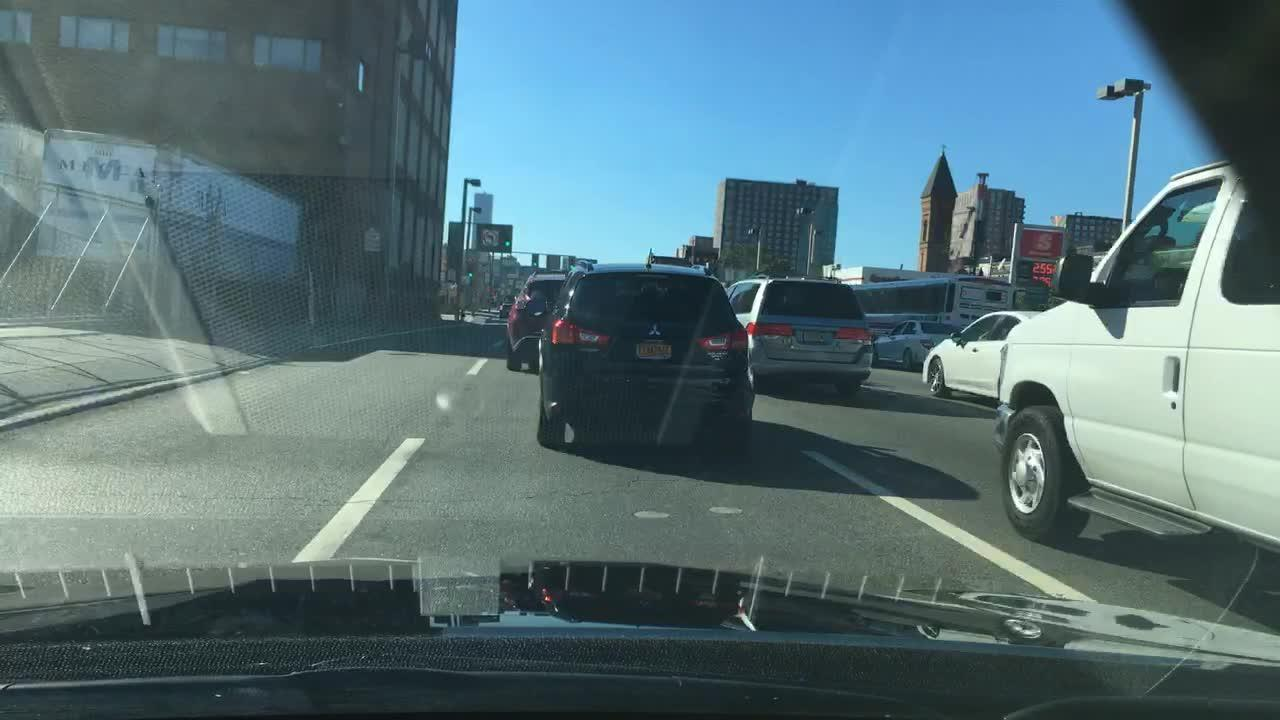Mitsubishi: (638, 317, 669, 345)
